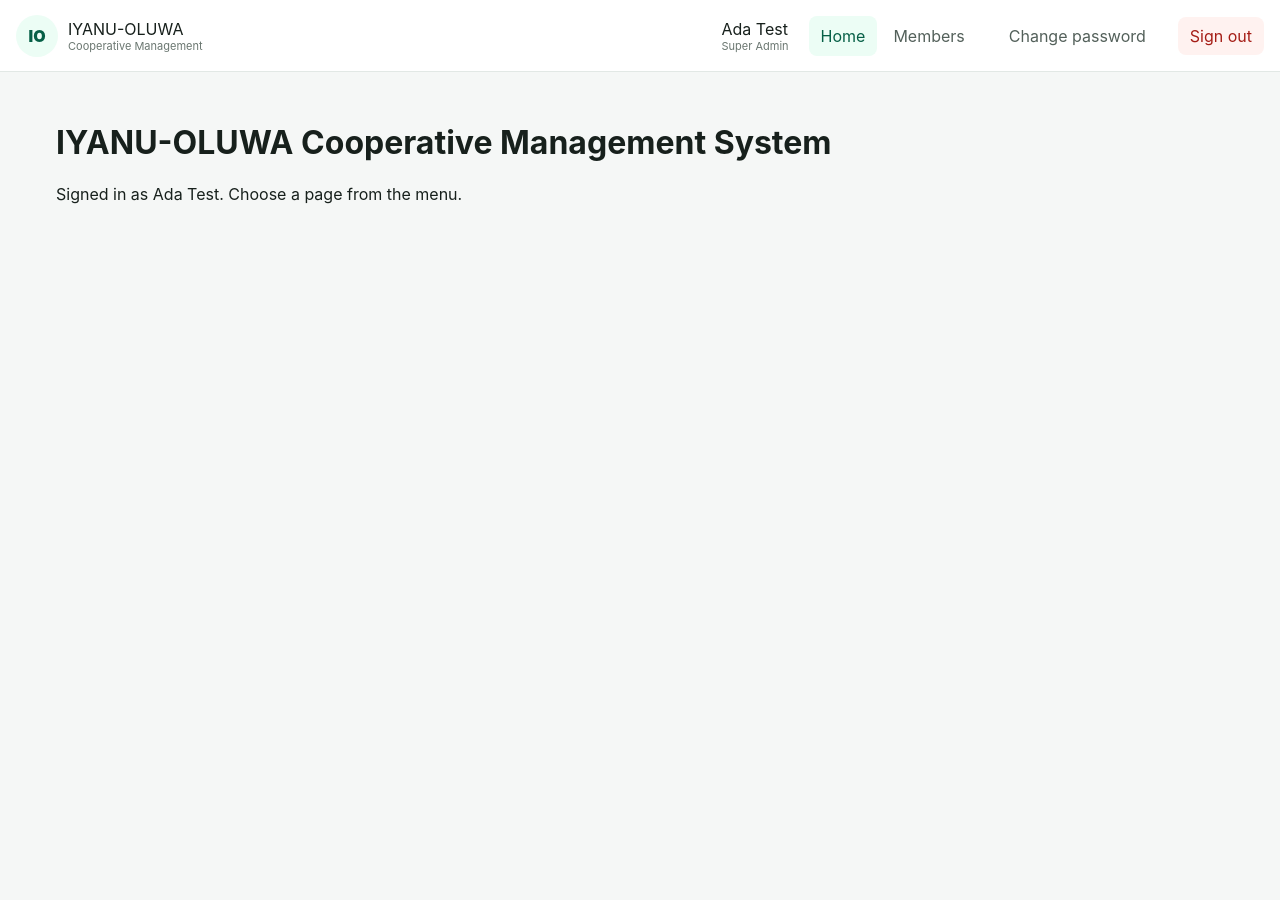
Test: member detail (jsdom) › shows the profile, balances, loans and payments, newest payment first
Click the button "Members". click: (929, 36)
box: [881, 16, 977, 56]
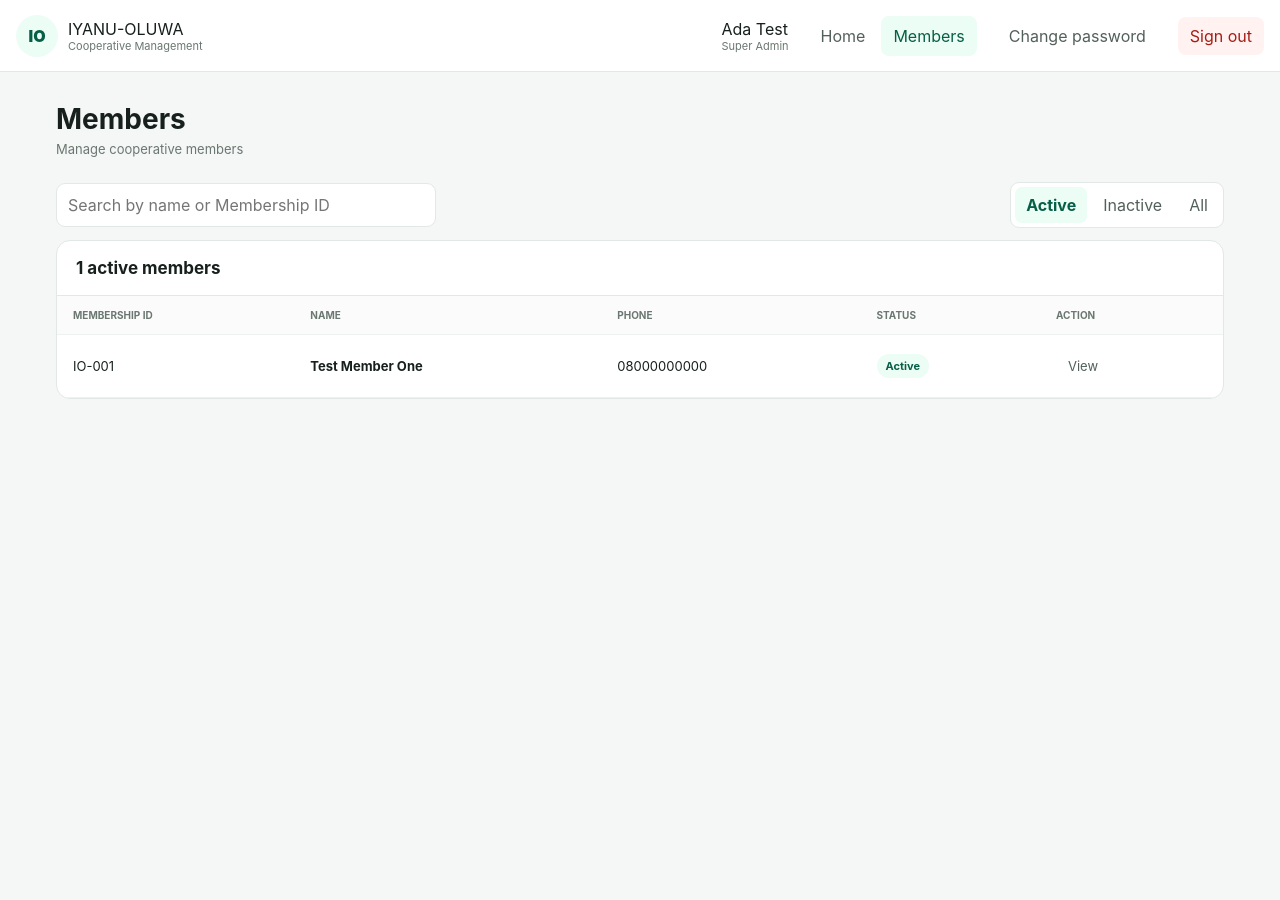
Click the button with aria-label "View Test Member One". click: (1083, 366)
box: [1056, 348, 1110, 384]
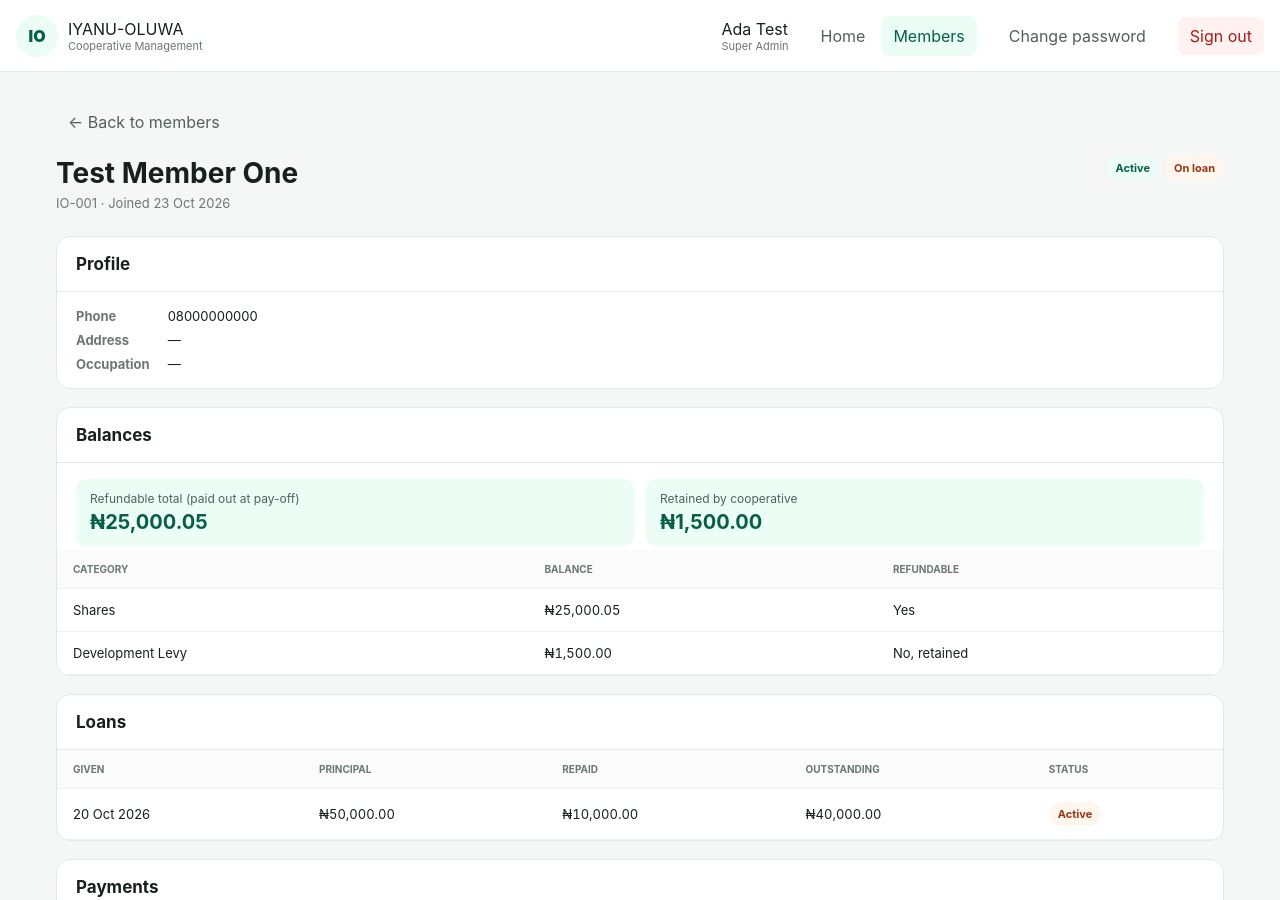
Expected: the heading "Test Member One" is shown, [56, 156, 298, 190]
Expected: the text "IO-001 · Joined 23 Oct 2026" is shown, [56, 195, 230, 211]
Expected: the text with class "loan" reads "On loan", [1174, 161, 1215, 175]
